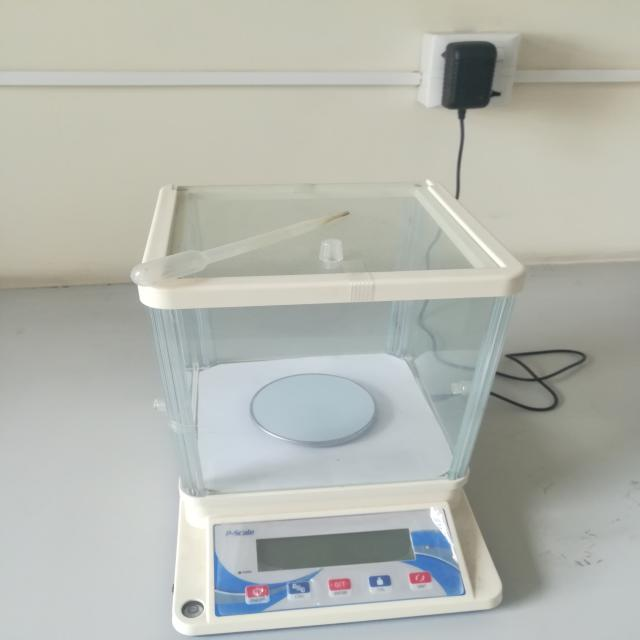Pipette: (95, 192, 392, 316)
